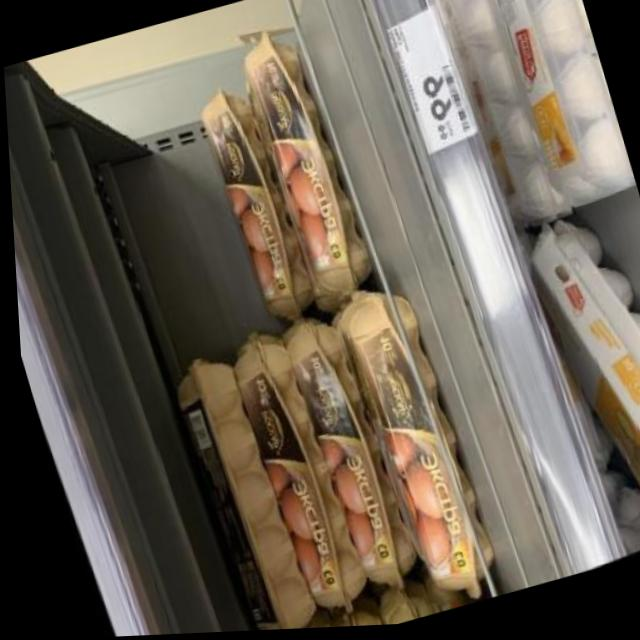Egg: (323, 269, 505, 618), (208, 309, 371, 633), (270, 300, 424, 609), (225, 21, 379, 315), (513, 200, 640, 556), (465, 0, 636, 229), (186, 73, 320, 337), (362, 579, 429, 628), (261, 607, 332, 632), (312, 609, 378, 630)
